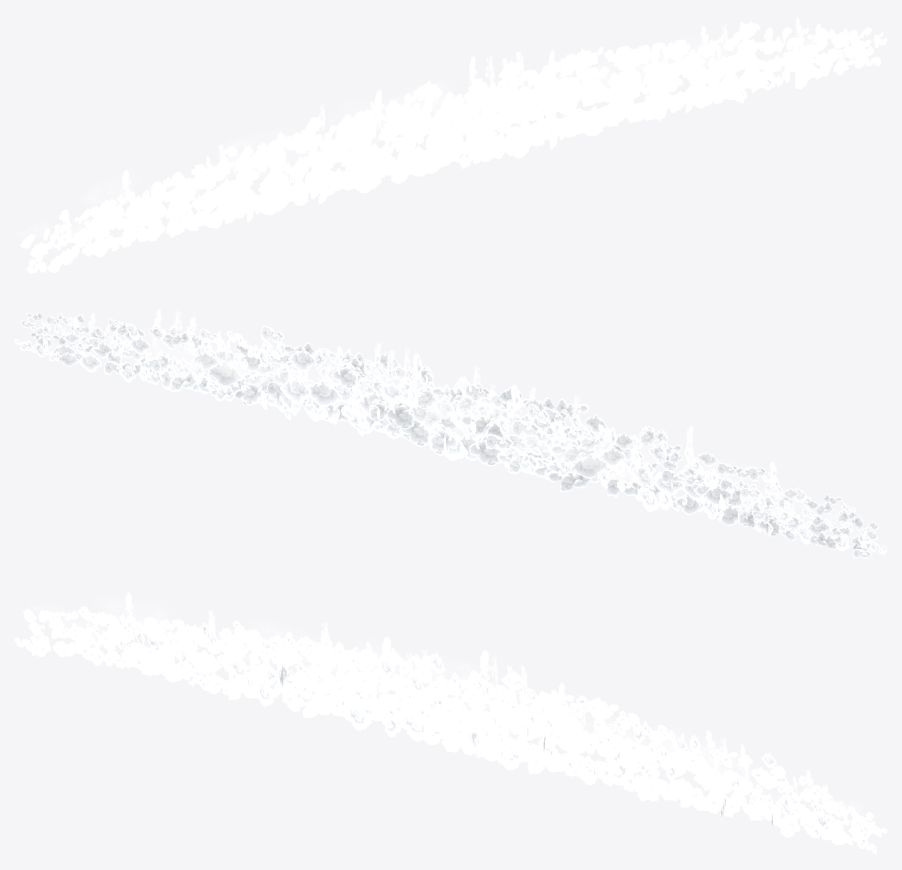
Rendered from crash_burst.glb.
3 views of the same model, one above another, from view 1: azimuth 30°, elevation 25°; view 2: azimuth 150°, elevation 25°; view 3: azimuth 330°, elevation 25° (orthographic).
Size of the model in its own units: 561 by 65.28 by 37.64.
4 materials, 4 textured.
